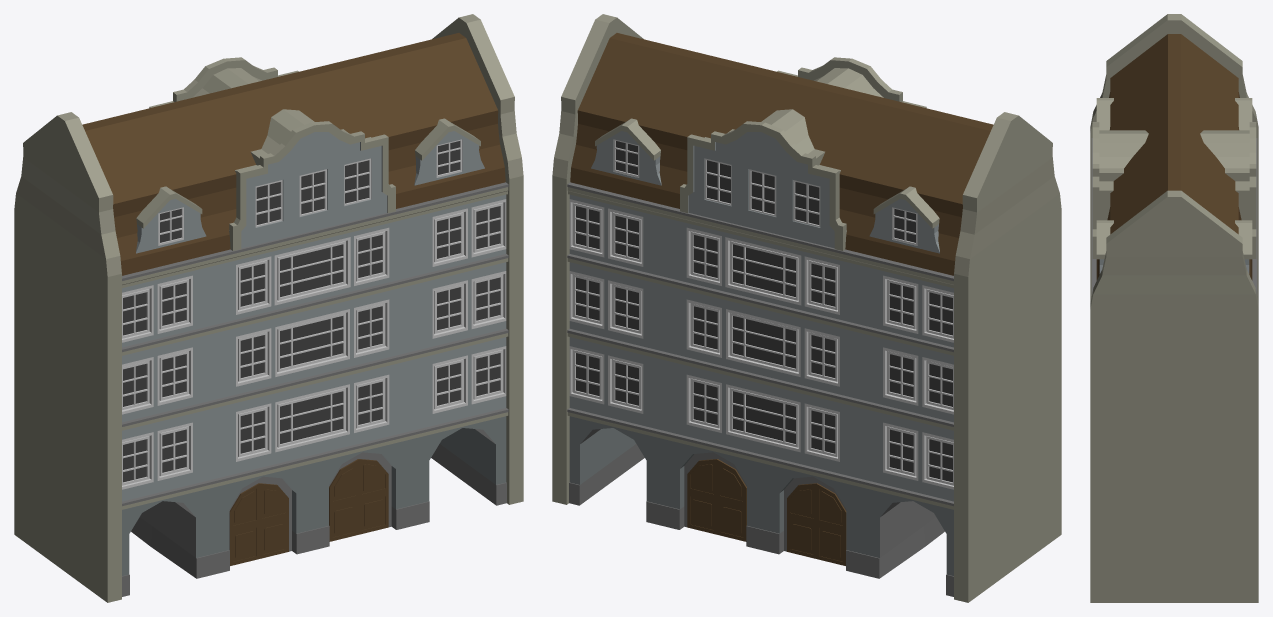
The model's file is school_building.glb.
3 renders of one model, left to right at view 1: azimuth 30°, elevation 25°; view 2: azimuth 150°, elevation 25°; view 3: azimuth 270°, elevation 25°, orthographic. The views are drawn at different scales.
Visible parts, largest first — view 1: Building2_Large; view 2: Building2_Large; view 3: Building2_Large.
Boxes of the visible parts, x1=… form: Building2_Large: x1=14, y1=14, x2=523, y2=602; Building2_Large: x1=552, y1=14, x2=1061, y2=602; Building2_Large: x1=1090, y1=14, x2=1258, y2=602.
Size of the model in its own units: 5.72 by 5.92 by 2.22.
Materials: 1 (1 with a texture image).
